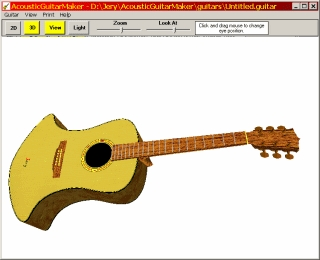guitar: (9, 112, 301, 233)
